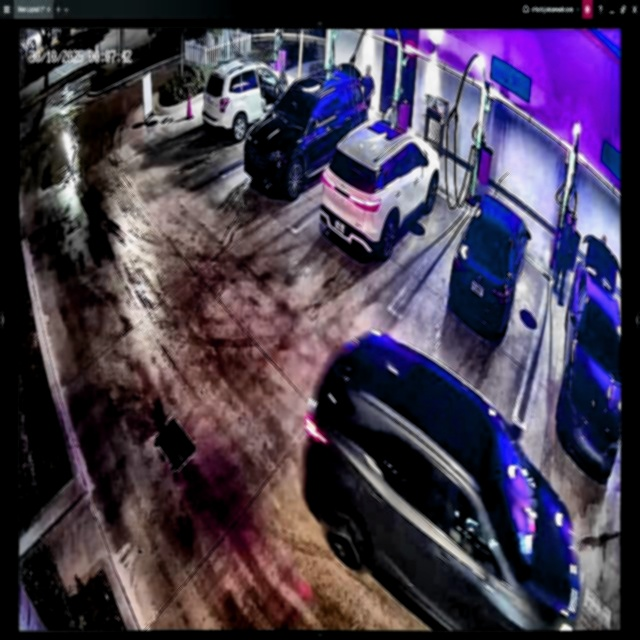Car: (303, 333, 574, 640), (319, 119, 440, 260), (244, 68, 366, 195), (451, 196, 529, 339), (203, 65, 298, 137)
